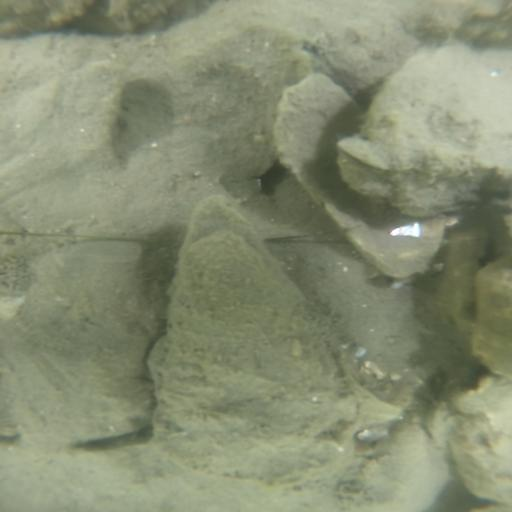Oyster-Closed: (1, 241, 159, 442), (343, 46, 506, 219), (187, 1, 407, 81), (337, 422, 442, 503), (438, 384, 511, 500), (467, 257, 512, 378), (99, 1, 191, 35), (11, 2, 86, 37)
Oyster-Open: (156, 196, 352, 477)
